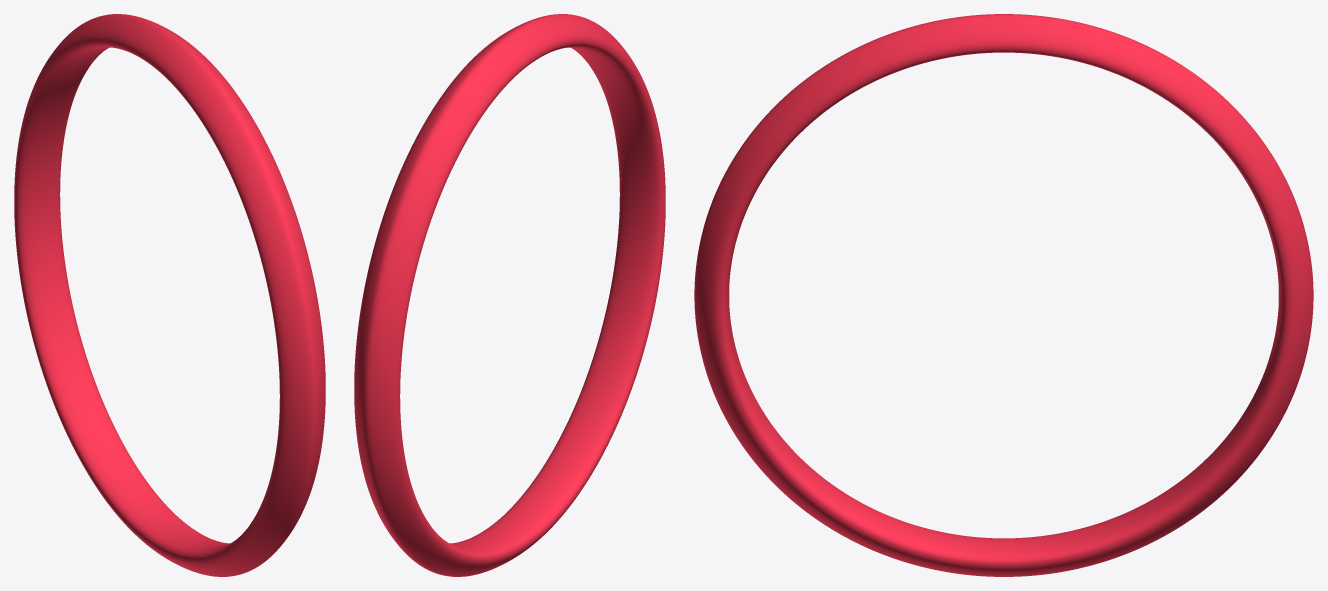
The model's file is ringanimation.glb.
3 views of the same model, side by side, from view 1: azimuth 30°, elevation 25°; view 2: azimuth 150°, elevation 25°; view 3: azimuth 270°, elevation 25° (orthographic). The views are drawn at different scales.
Visible parts, largest first — view 1: Cylinder; view 2: Cylinder; view 3: Cylinder.
Part boxes in pixels (box(x1,y1,x2,y2)): Cylinder: box(14, 14, 325, 576); Cylinder: box(354, 14, 665, 576); Cylinder: box(694, 14, 1313, 576).
Size of the model in its own units: 0.4286 by 4.86 by 4.86.
